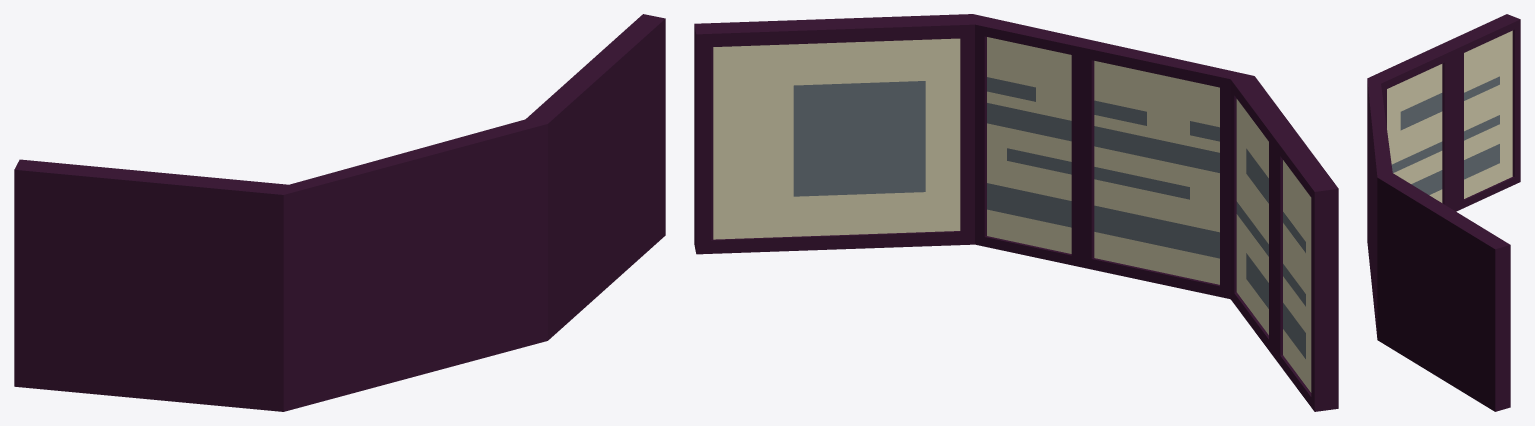
The model's file is Interior_DND_DMScreen.fbx.
3 views of the same model, side by side, from view 1: azimuth 30°, elevation 25°; view 2: azimuth 150°, elevation 25°; view 3: azimuth 270°, elevation 25° (orthographic). The views are drawn at different scales.
Visible parts, largest first — view 1: Cube.389; view 2: Cube.389; view 3: Cube.389.
Boxes of the visible parts, x1=… form: Cube.389: x1=14, y1=14, x2=665, y2=411; Cube.389: x1=694, y1=14, x2=1338, y2=411; Cube.389: x1=1367, y1=14, x2=1520, y2=411.
Bounding box in the file's own units: 105 × 33.94 × 29.02.
